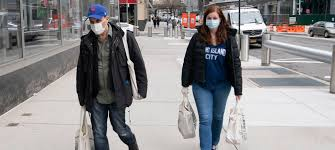with_mask: (83, 9, 109, 36), (203, 9, 226, 30)
